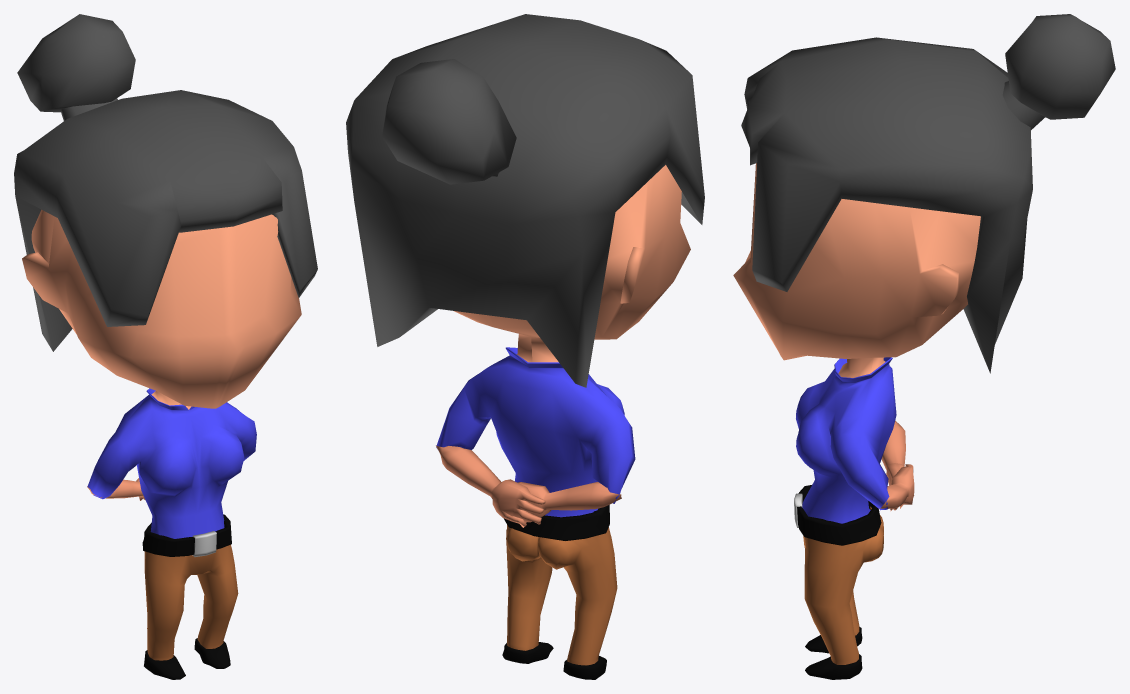
Rendered from Female NPC - blue shirt,beige pants.FBX.
3 views of the same model, side by side, from view 1: azimuth 30°, elevation 25°; view 2: azimuth 150°, elevation 25°; view 3: azimuth 270°, elevation 25° (orthographic). The views are drawn at different scales.
Parts seen in each view (by area): view 1: Group006; view 2: Group006; view 3: Group006.
Part boxes in pixels (x1,y1,x2,y2): Group006: [14, 14, 317, 679]; Group006: [346, 14, 704, 679]; Group006: [733, 14, 1115, 679].
Bounding box in the file's own units: 83.77 × 107 × 197.
